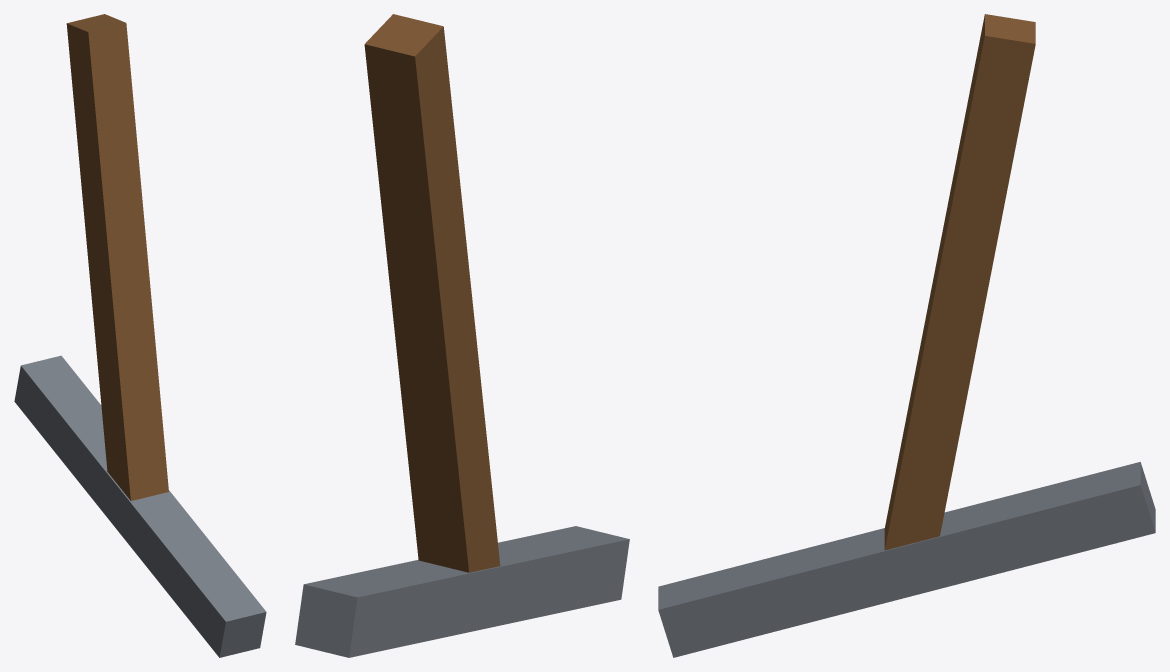
The model's file is tool_pick.glb.
3 views of the same model, side by side, from view 1: azimuth 30°, elevation 25°; view 2: azimuth 150°, elevation 25°; view 3: azimuth 270°, elevation 25° (orthographic). The views are drawn at different scales.
Visible parts, largest first — view 1: tool_pick; view 2: tool_pick; view 3: tool_pick.
Boxes of the visible parts, x1,y1,x2,y2 form: tool_pick: (14,14,266,657); tool_pick: (295,14,629,657); tool_pick: (658,14,1155,657).
Bounding box in the file's own units: 0.016 × 0.199 × 0.1444.
